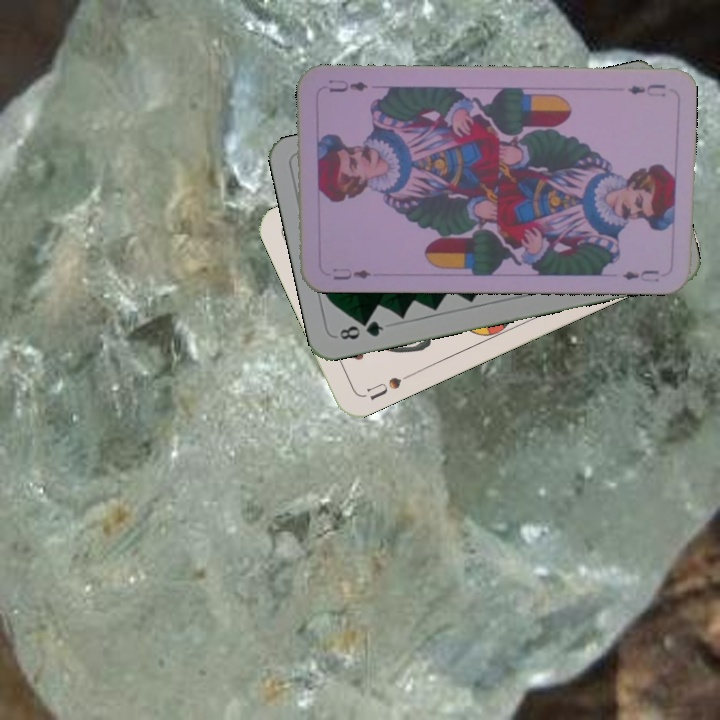EU: (623, 80, 668, 100), (329, 264, 373, 282)
G8: (335, 316, 386, 343)
SU: (362, 369, 415, 403)
